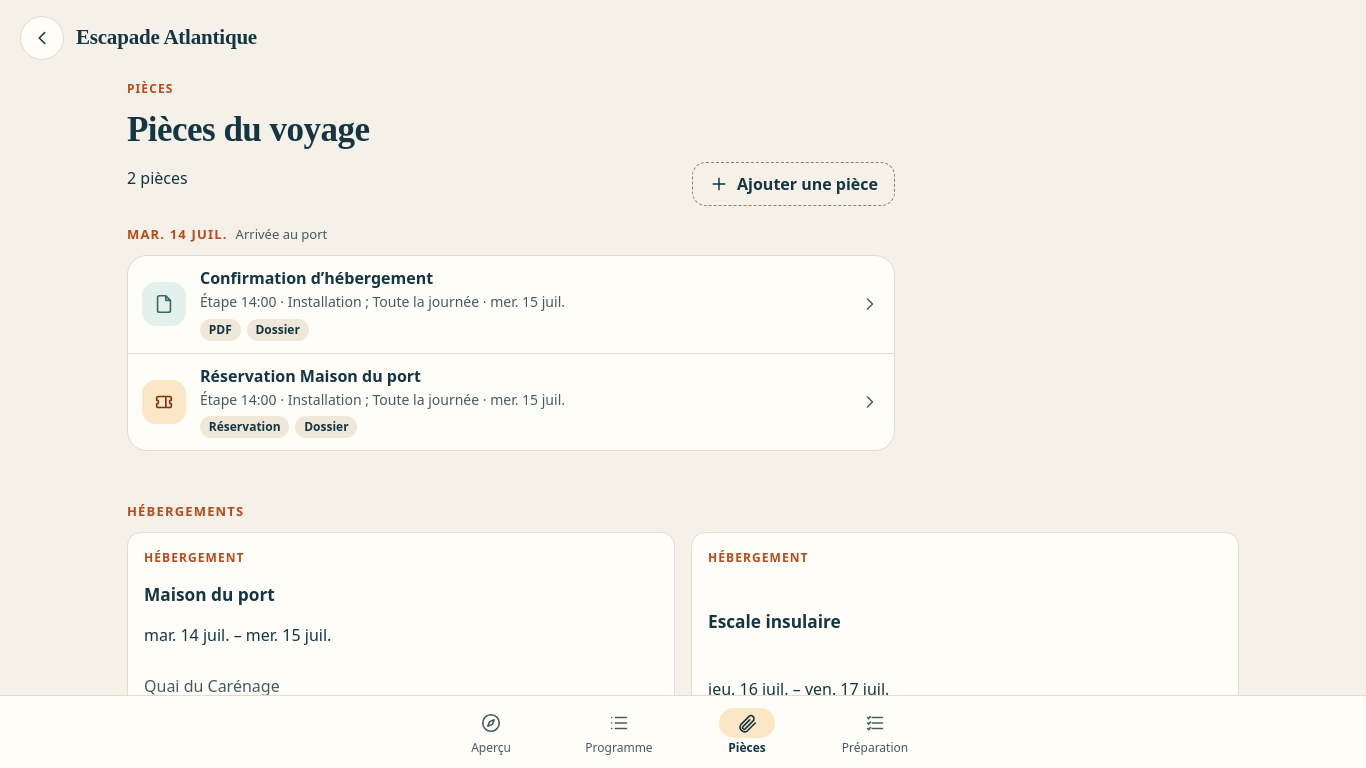
it: ajout d’une pièce › ouvre le formulaire depuis l’espace Pièces avec de vrais libellés
Click the button "Ajouter une pièce": click(794, 184) [692,162,895,206]
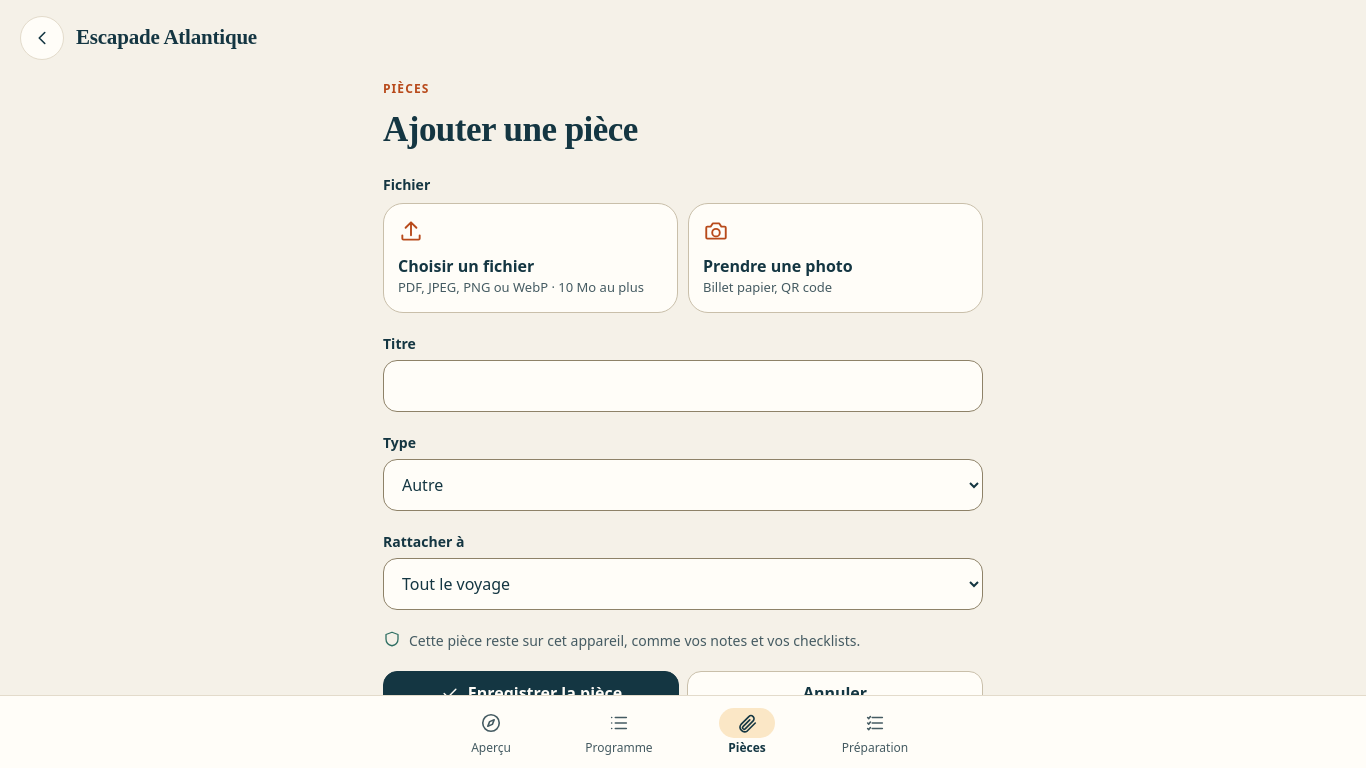
Expected: the heading "Ajouter une pièce" is shown, [383,110,638,149]
Expected: the dropdown labelled "Rattacher à" shows "Tout le voyage", [383,558,983,610]
Expected: the text "Cette pièce reste sur cet appareil, comme vos notes et vos checklists." is shown, [409,630,860,651]
